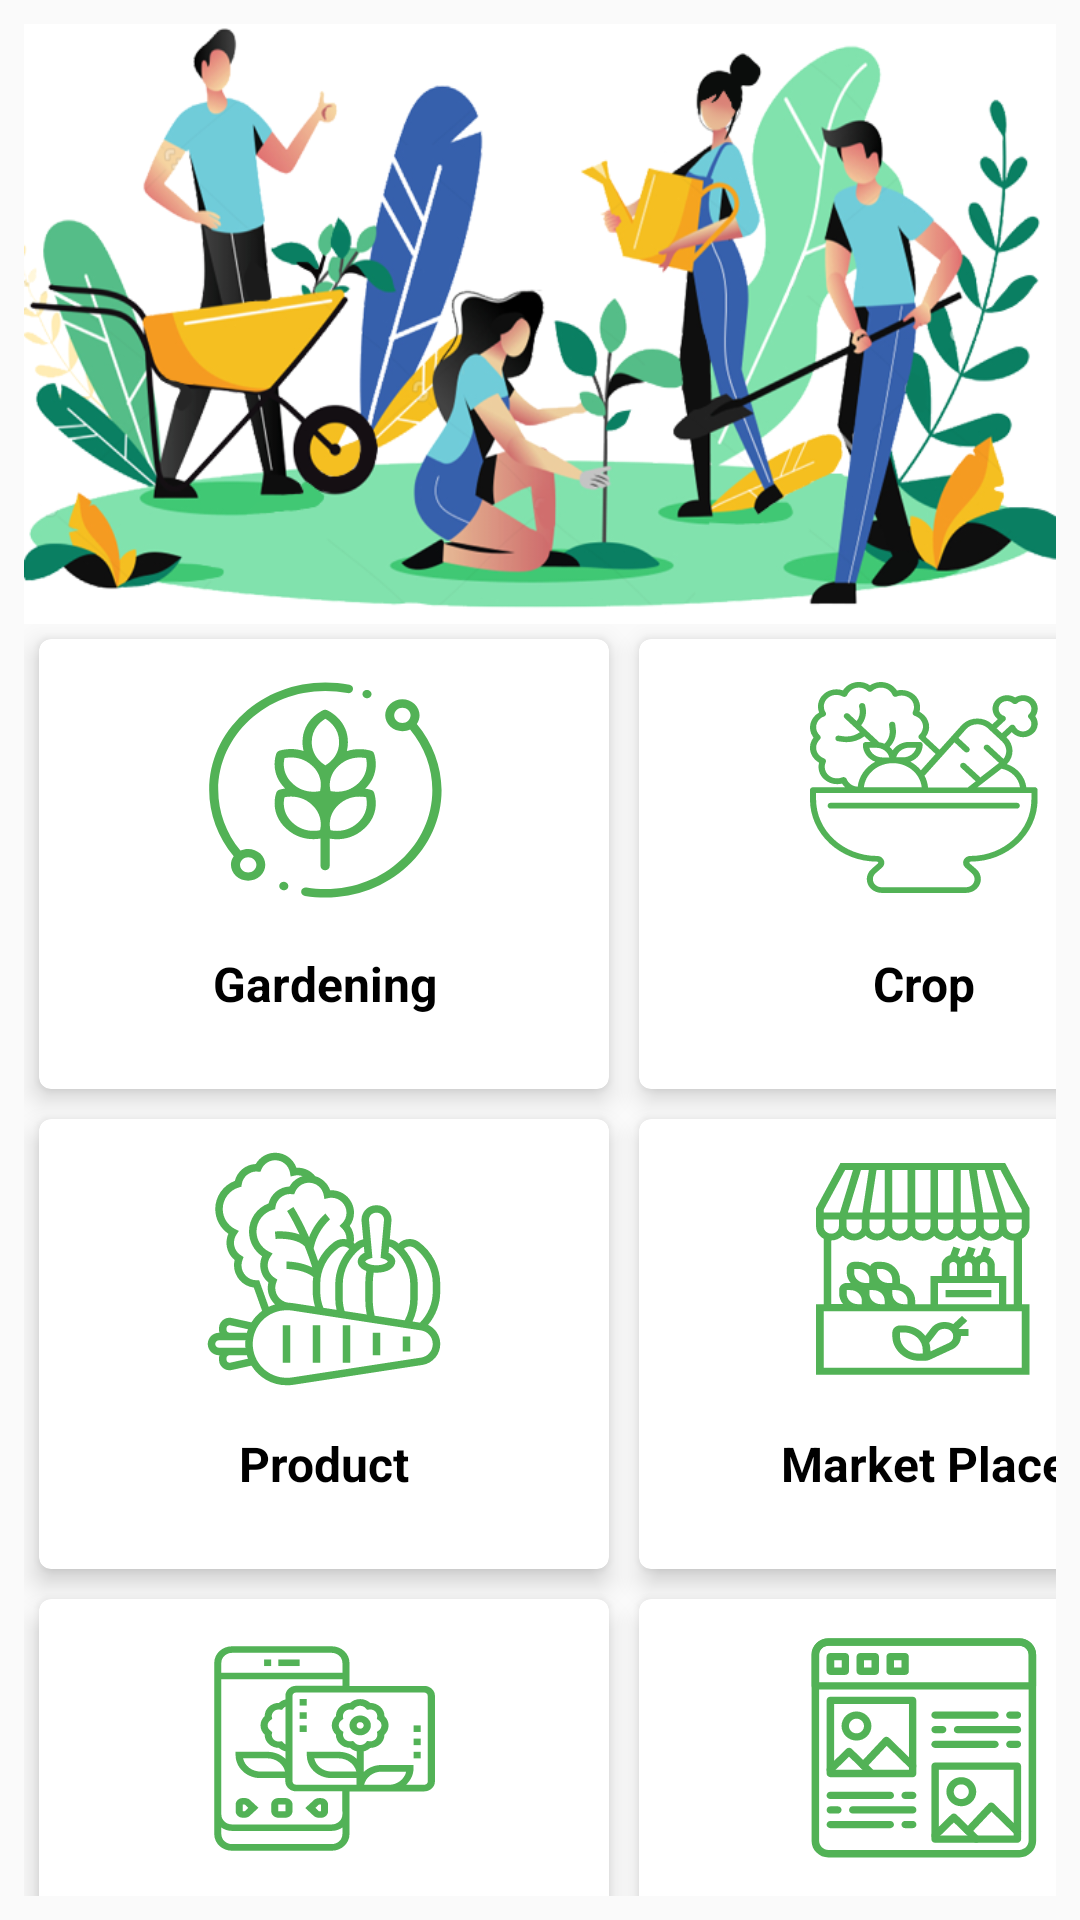

Named icons in this screenshot (1080 × 1920) and their bounding boxes, (x1, y1, x2, y2):
vegetable: (207, 1152, 441, 1386)
